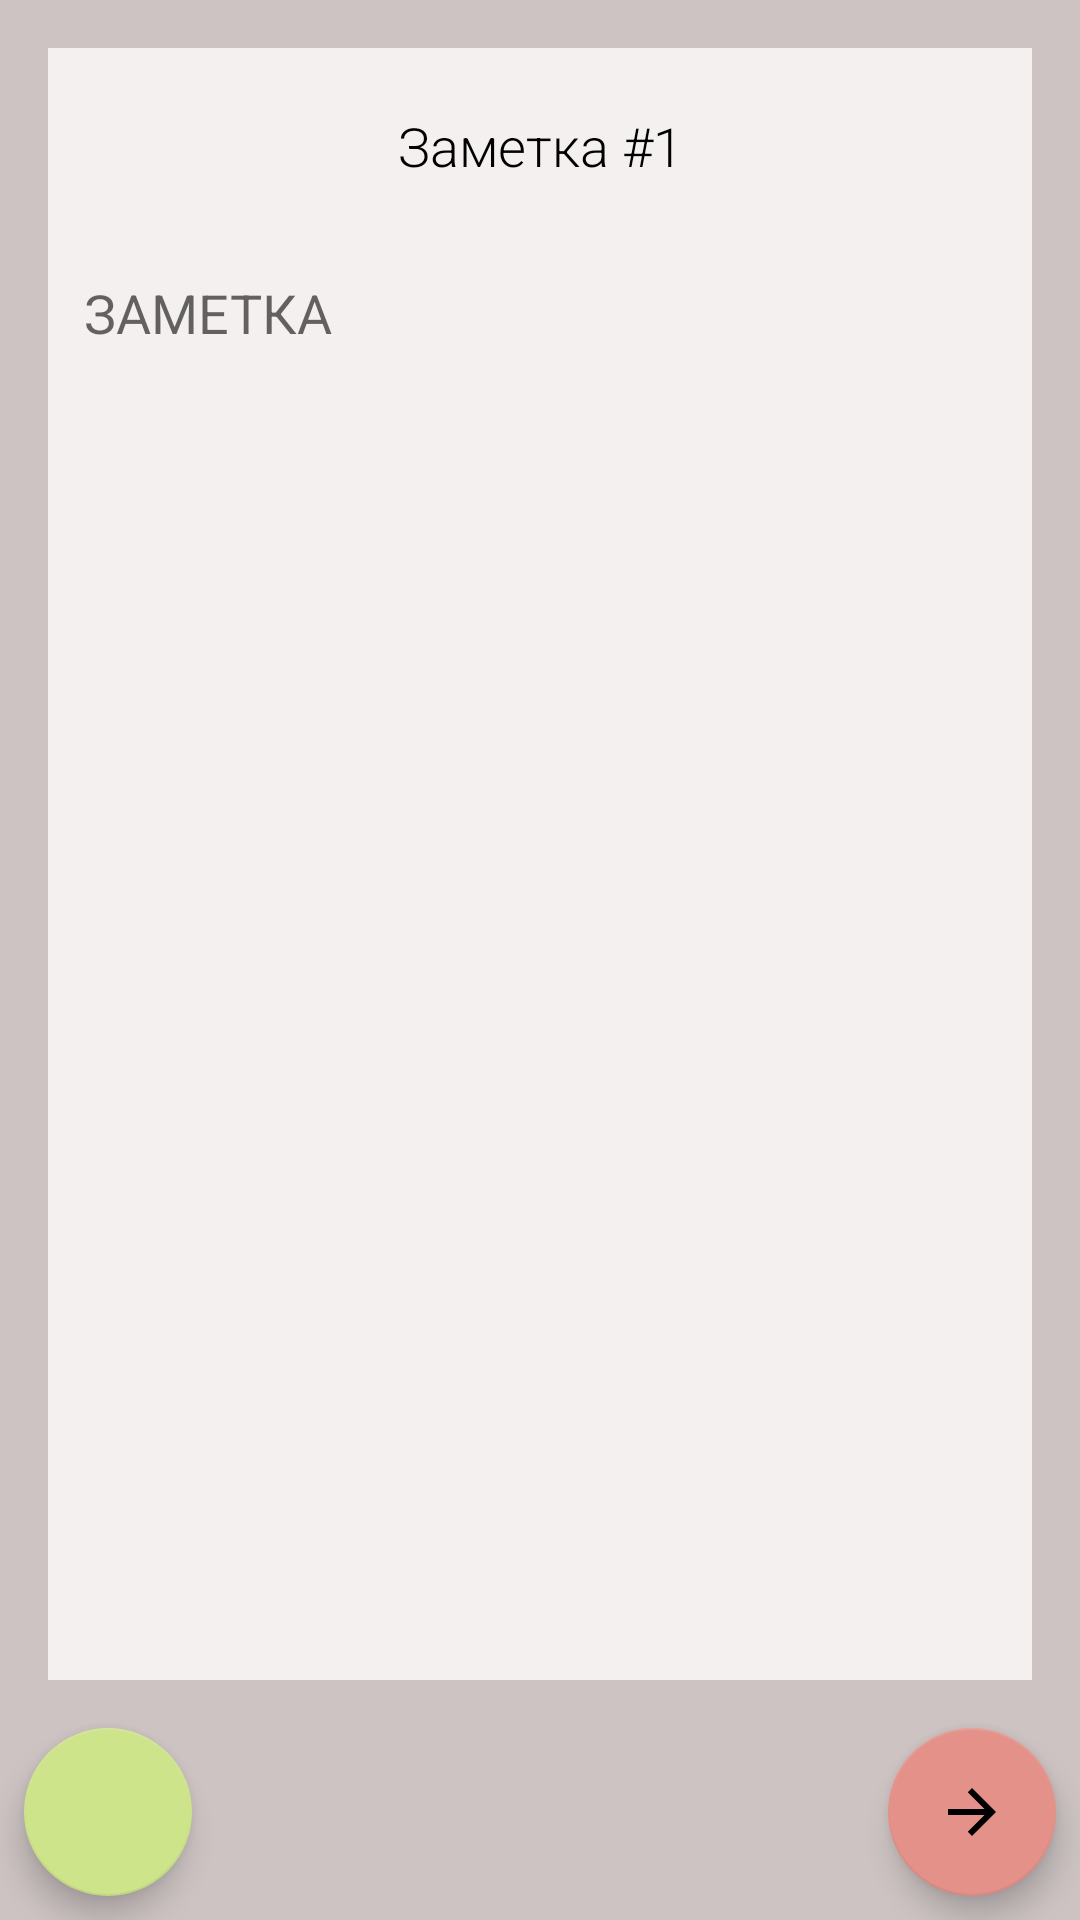

Icons on this 1080×1920 Android screen, each with the point to tap as point (x, y):
arrow forward: point (972, 1812)
